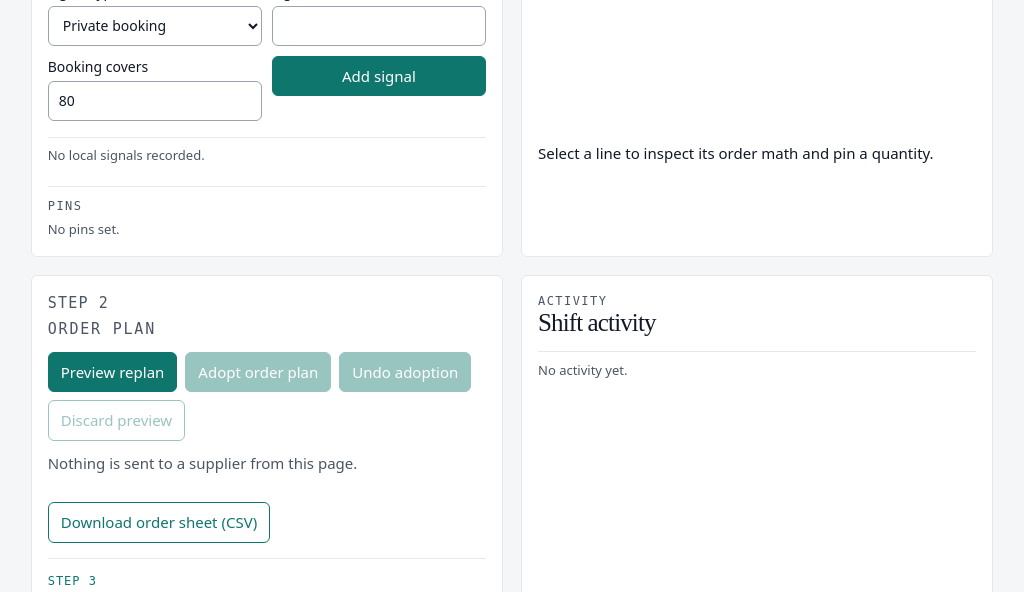
Scenario: order review UI › pins a quantity into the visible row, drawer, and preview cost
(page scrolled)
Click the button "Preview replan": (112, 372) 48,352 -> 177,392
(page scrolled)
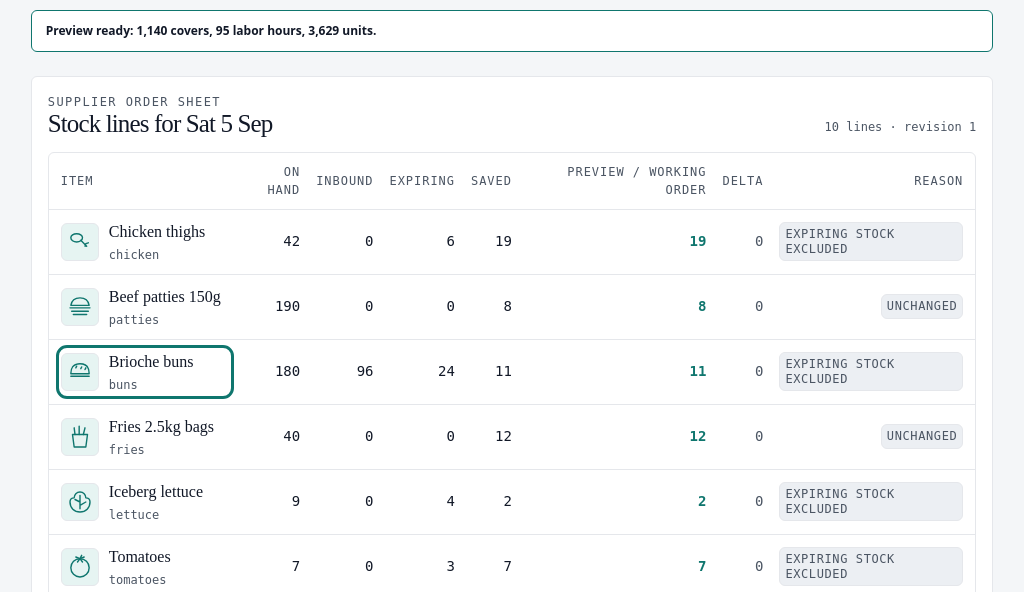
Press Enter
(page scrolled)
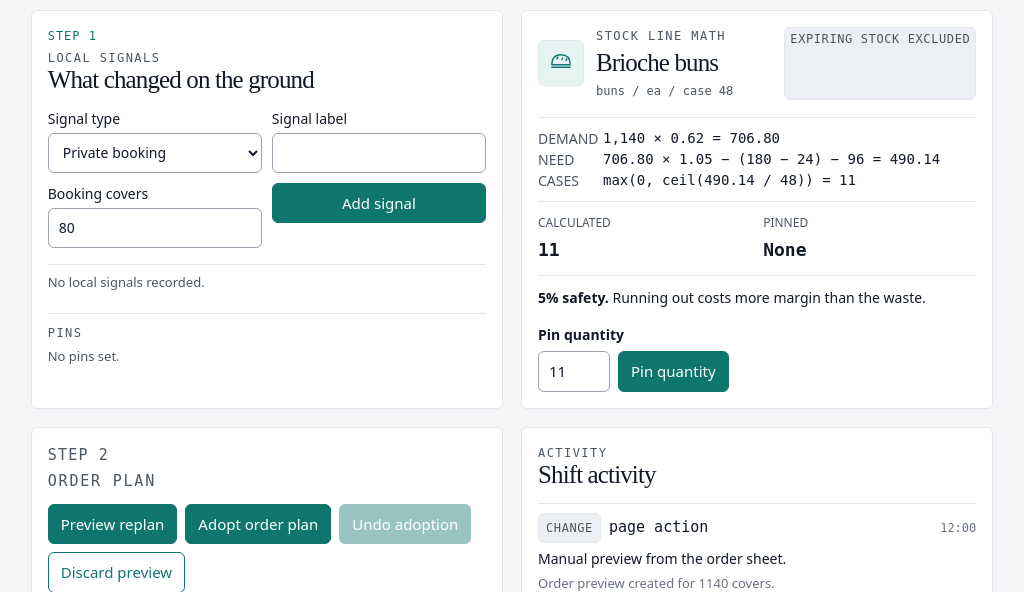
Replace the text in the number field named "Brioche buns quantity pin" with "13": (574, 371) 538,351 -> 610,392
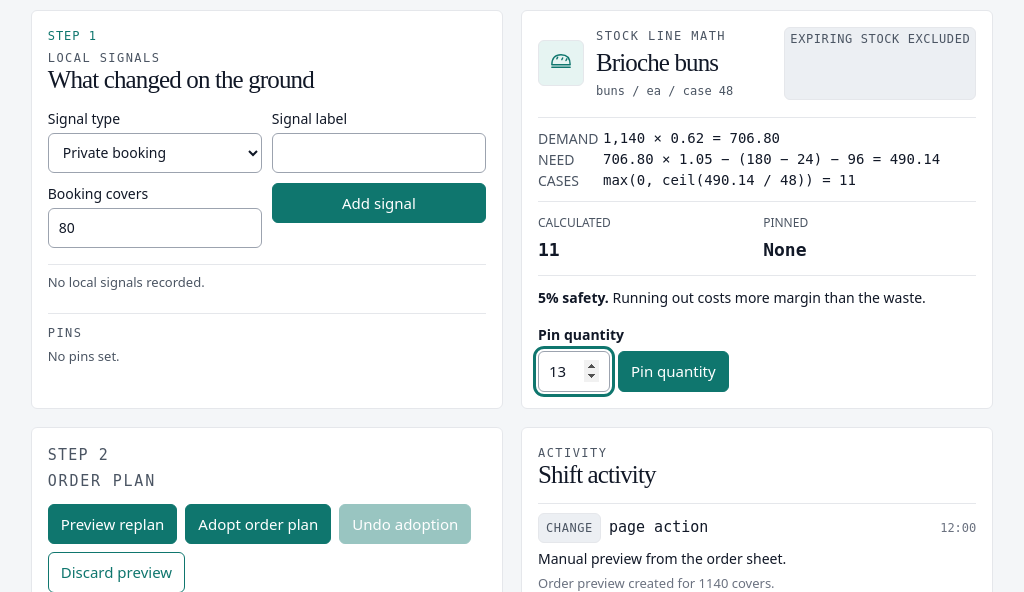
Click the button "Pin quantity": (673, 371) 618,351 -> 729,392
(page scrolled)
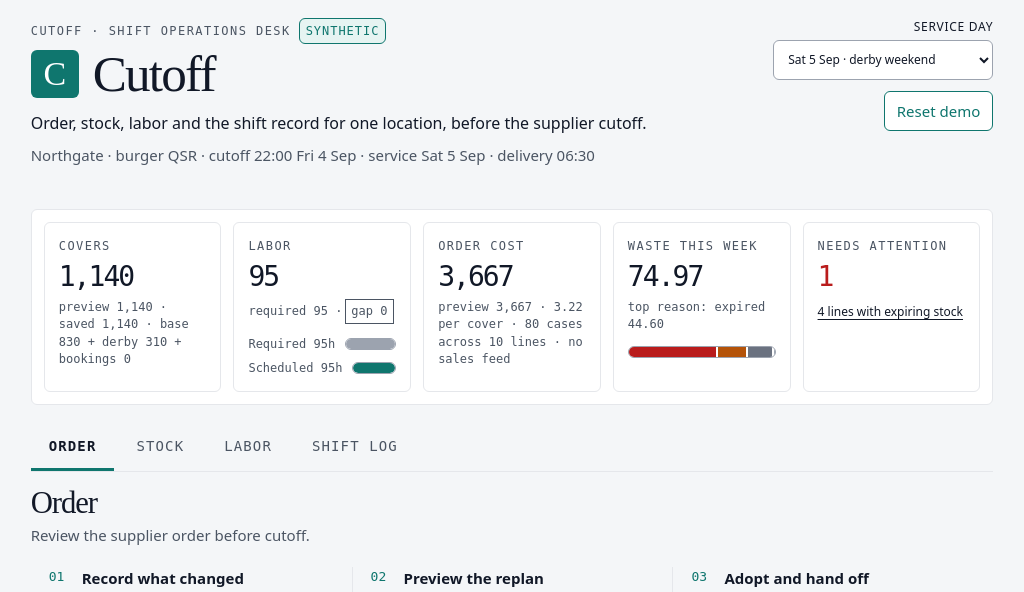
Expected: the text "3,667" is shown, 438,263 -> 513,291
